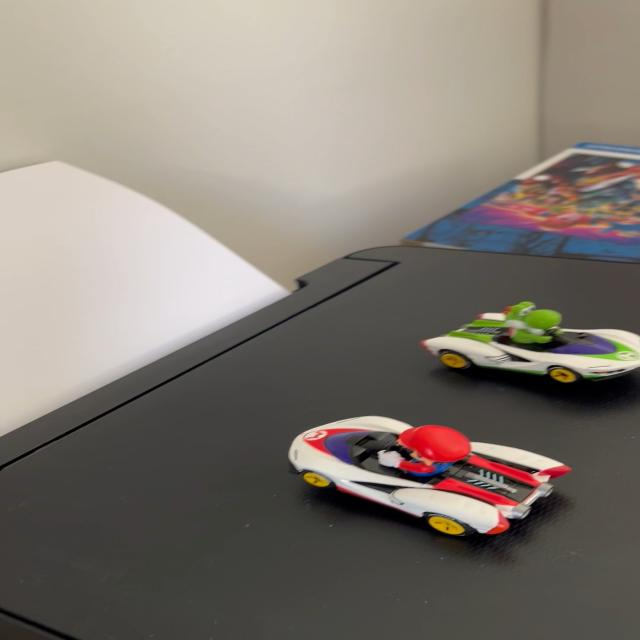mario: (250, 410, 598, 546)
yoshi: (416, 296, 640, 390)
